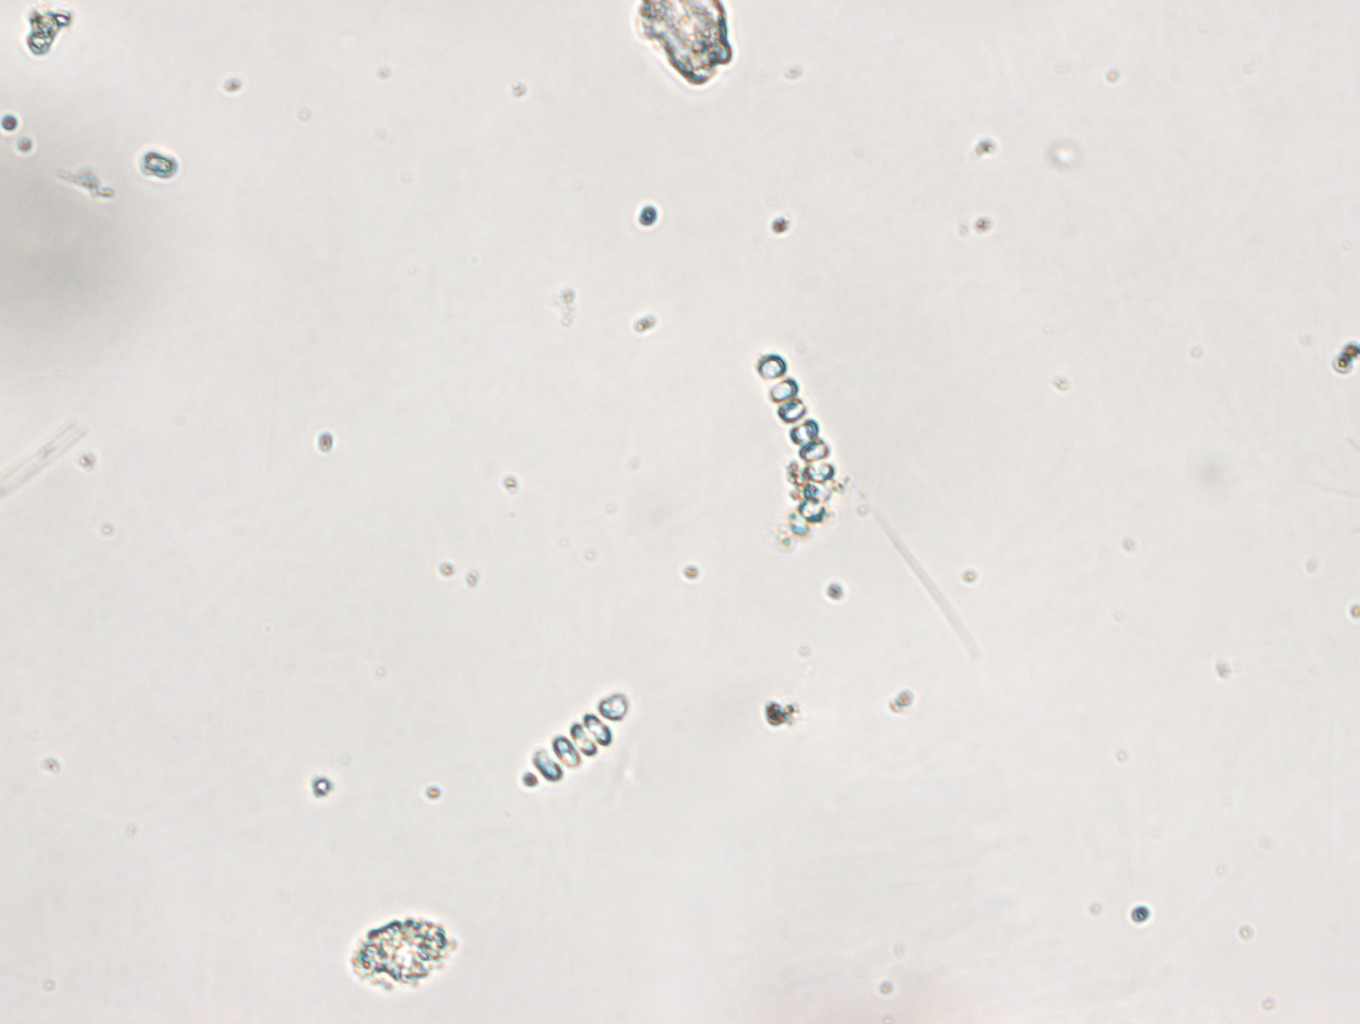skeletonema: (751, 350, 842, 551), (522, 692, 630, 793)
